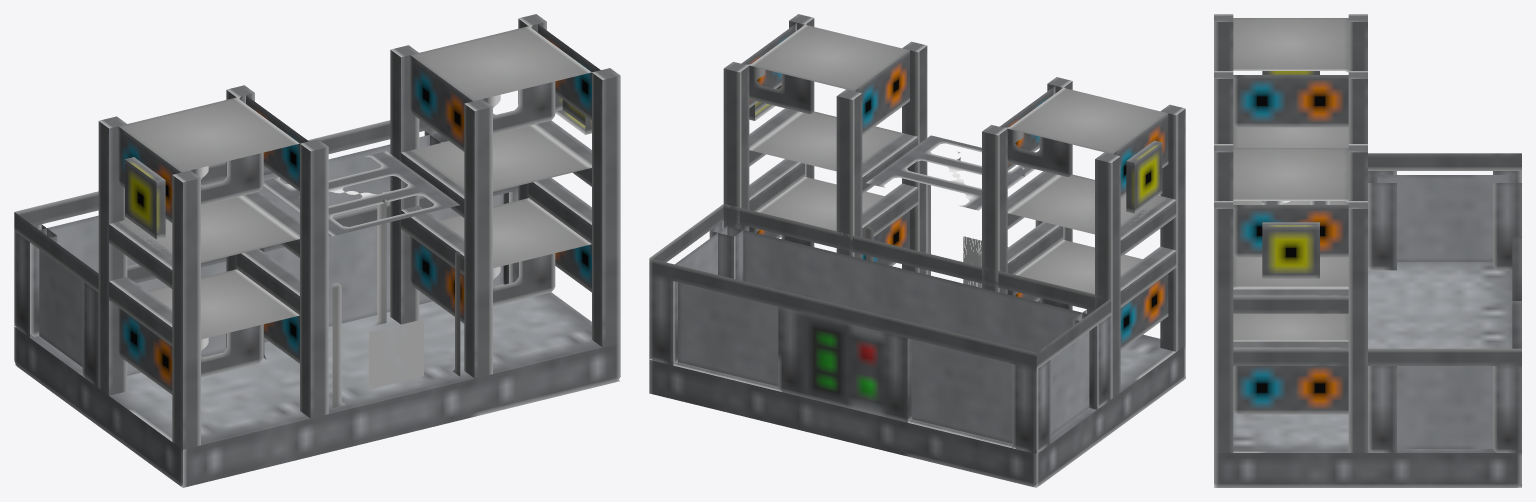
The model's file is electrolyser.obj.
3 renders of one model, left to right at view 1: azimuth 30°, elevation 25°; view 2: azimuth 150°, elevation 25°; view 3: azimuth 270°, elevation 25°, orthographic. The views are drawn at different scales.
Parts seen in each view (by area): view 1: Hull; view 2: Hull; view 3: Hull.
Part boxes in pixels (<box>): Hull: <box>14,14,620,487</box>; Hull: <box>649,14,1185,487</box>; Hull: <box>1214,14,1521,487</box>.
Bounding box in the file's own units: 3 × 2 × 2.
